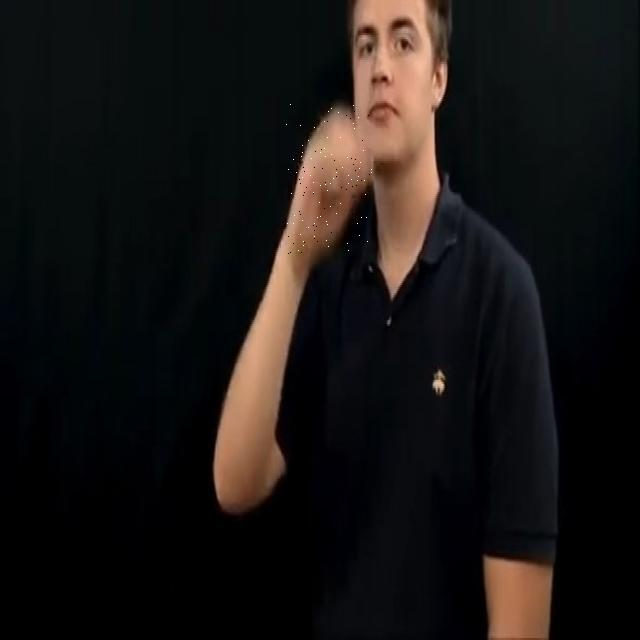drink: (286, 104, 372, 254)
